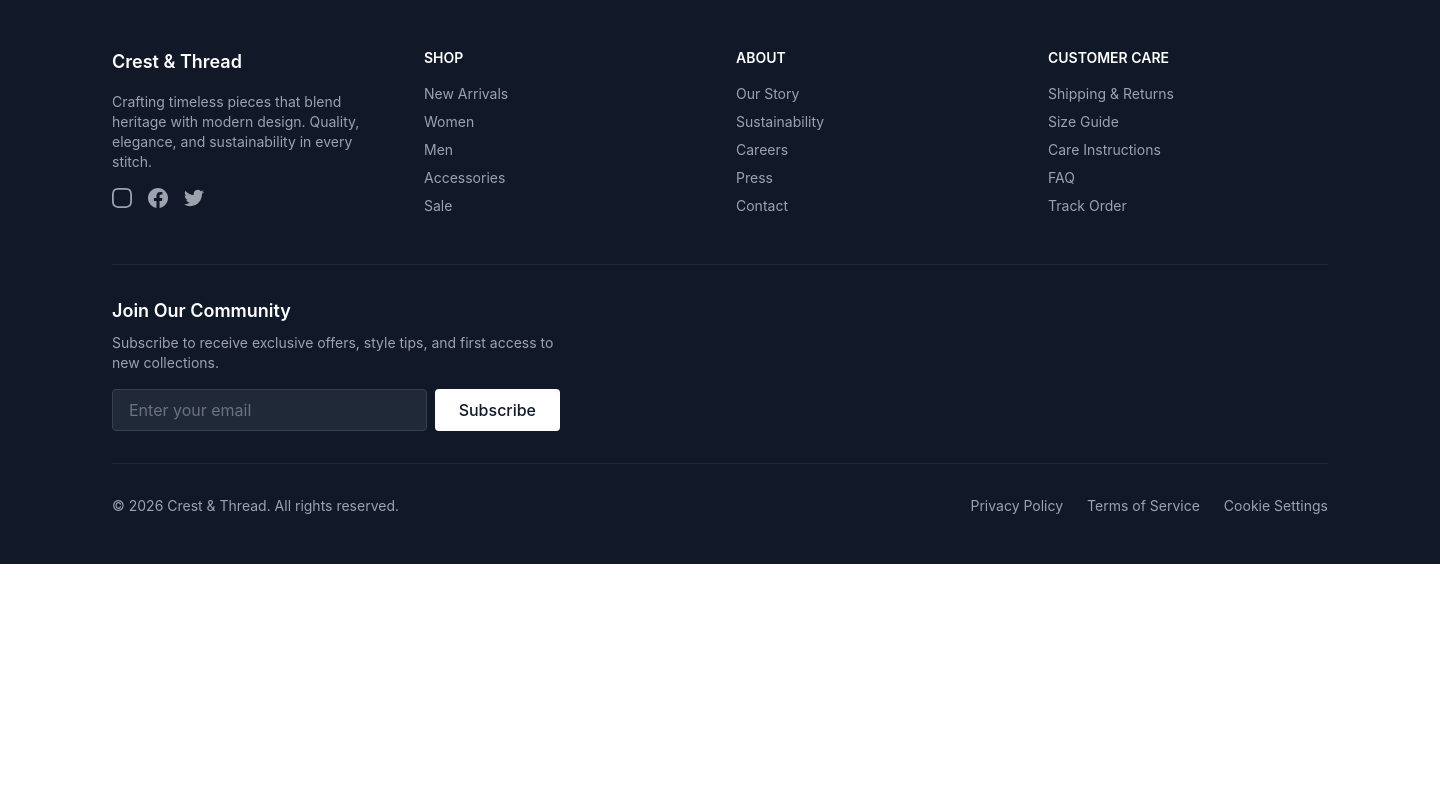
Footer Component › handles newsletter subscription success
Type "test@example.com" into the field with placeholder "Enter your email" at (269, 410), box [112,389,427,431]
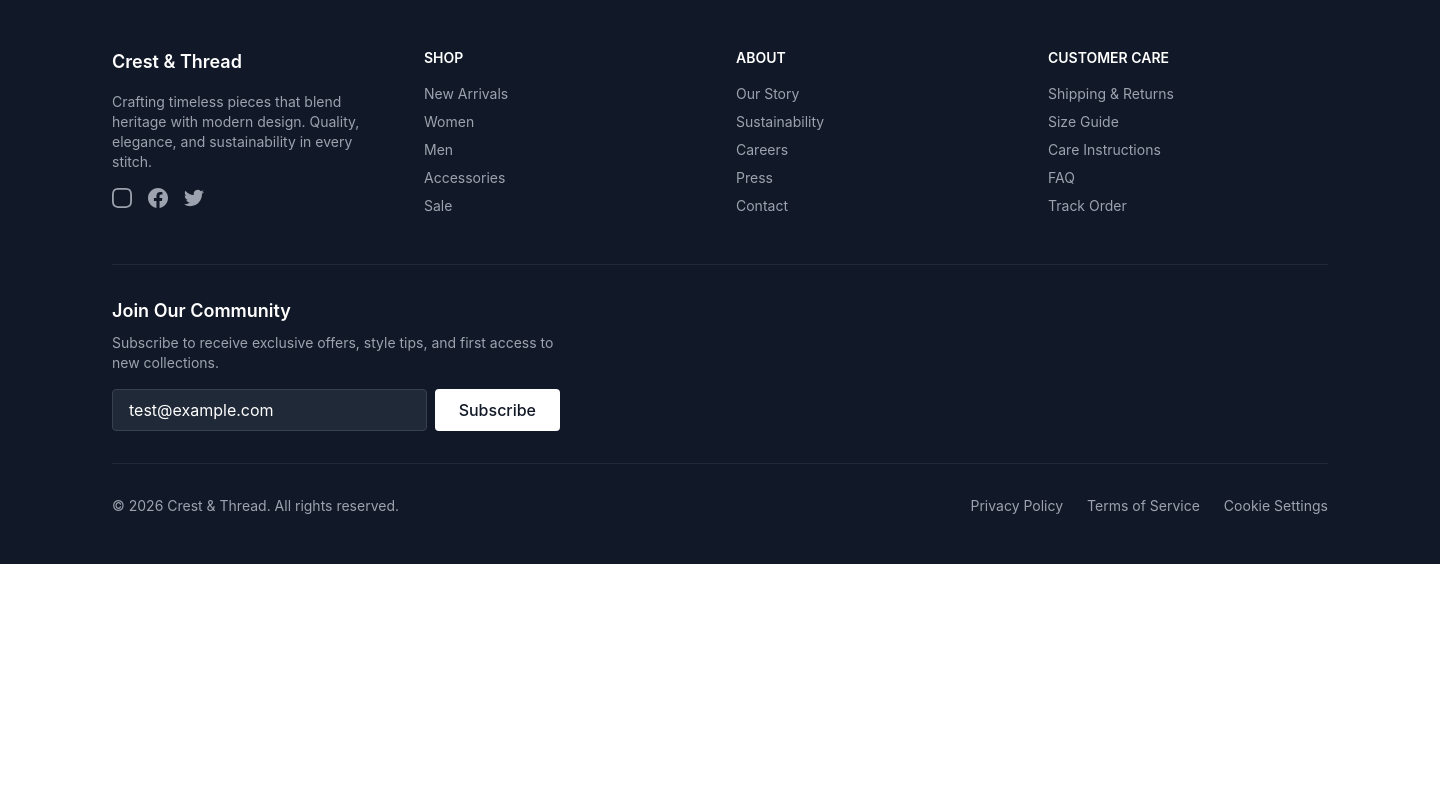
Click the button "Subscribe" at (497, 410), box [435,389,560,431]
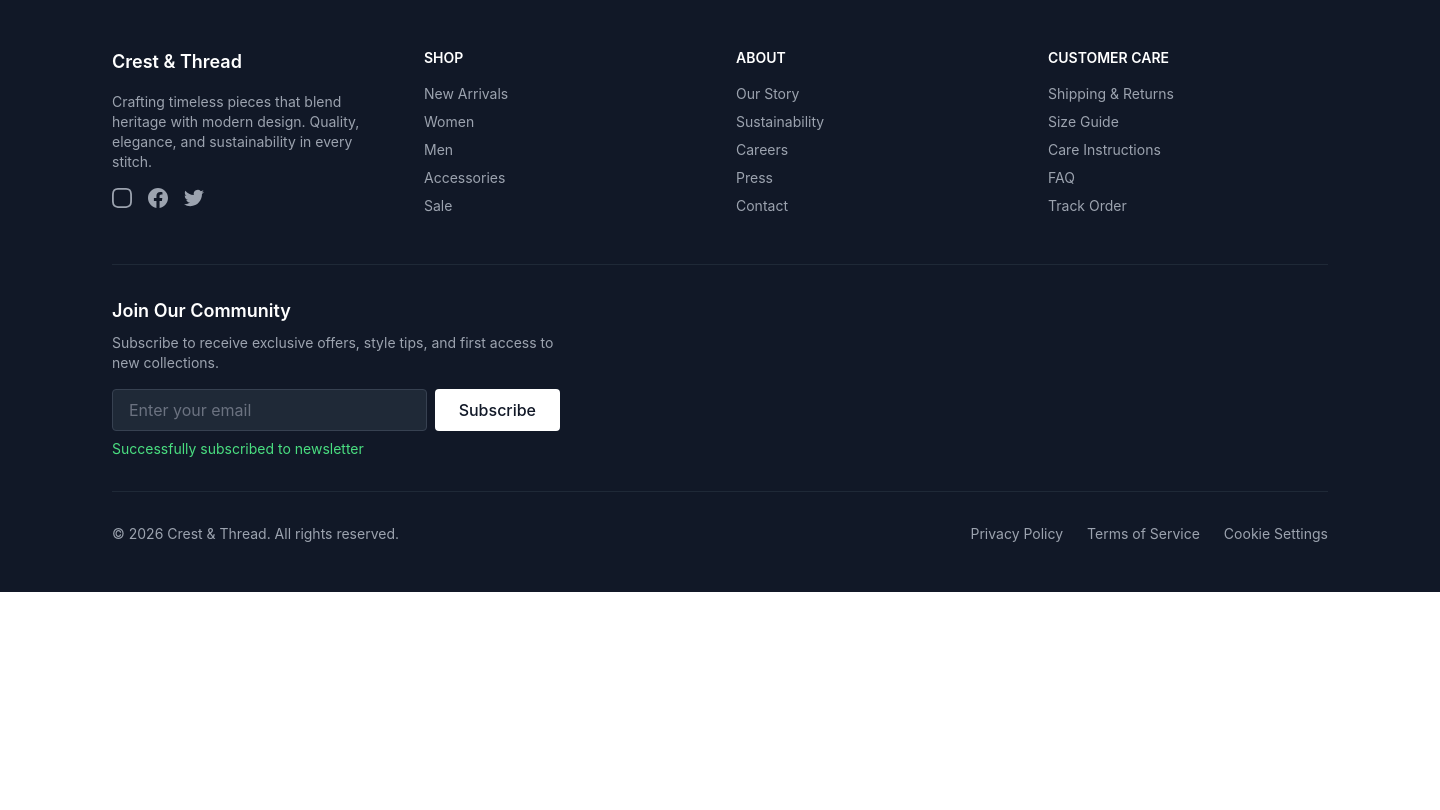
Expected: the text "Successfully subscribed to newsletter" is shown, [112,440,364,457]
